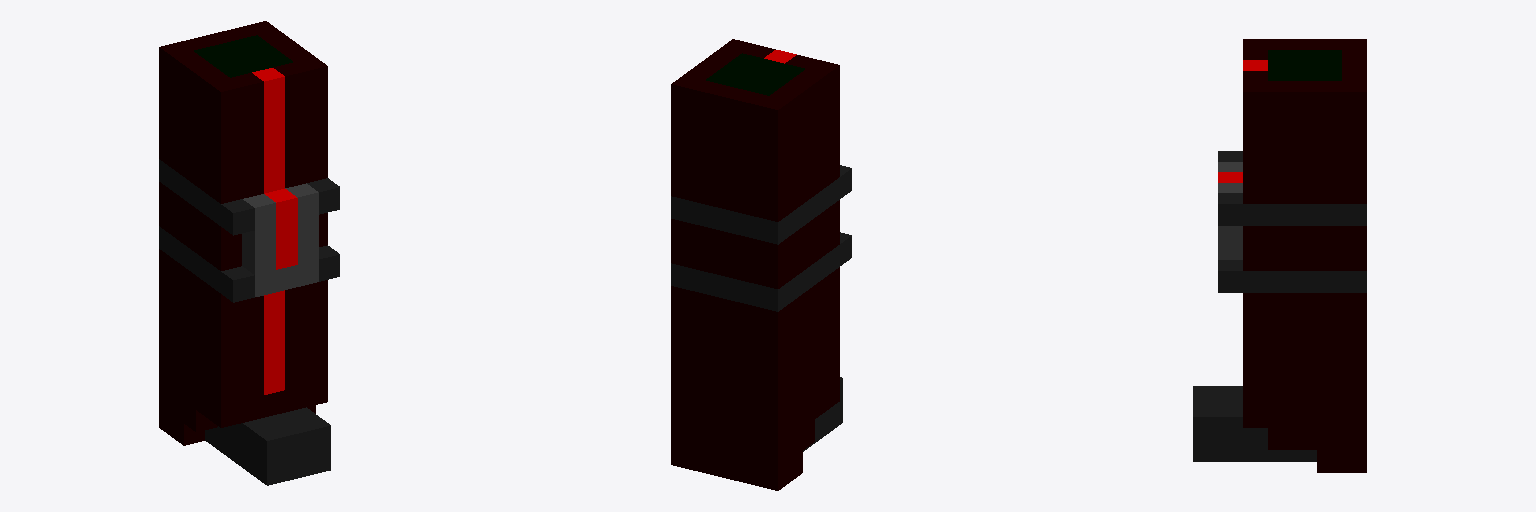
3 views of the same model, side by side, from view 1: azimuth 30°, elevation 25°; view 2: azimuth 150°, elevation 25°; view 3: azimuth 270°, elevation 25° (orthographic).
Parts seen in each view (by area): view 1: object 1; view 2: object 1; view 3: object 1.
Part boxes in pixels (x1,y1,x2,y2): object 1: (159, 21, 339, 485); object 1: (671, 39, 851, 490); object 1: (1193, 39, 1366, 472).
Bounding box in the file's own units: 0.5 × 1.7 × 0.7.
Materials: 1 (1 with a texture image).